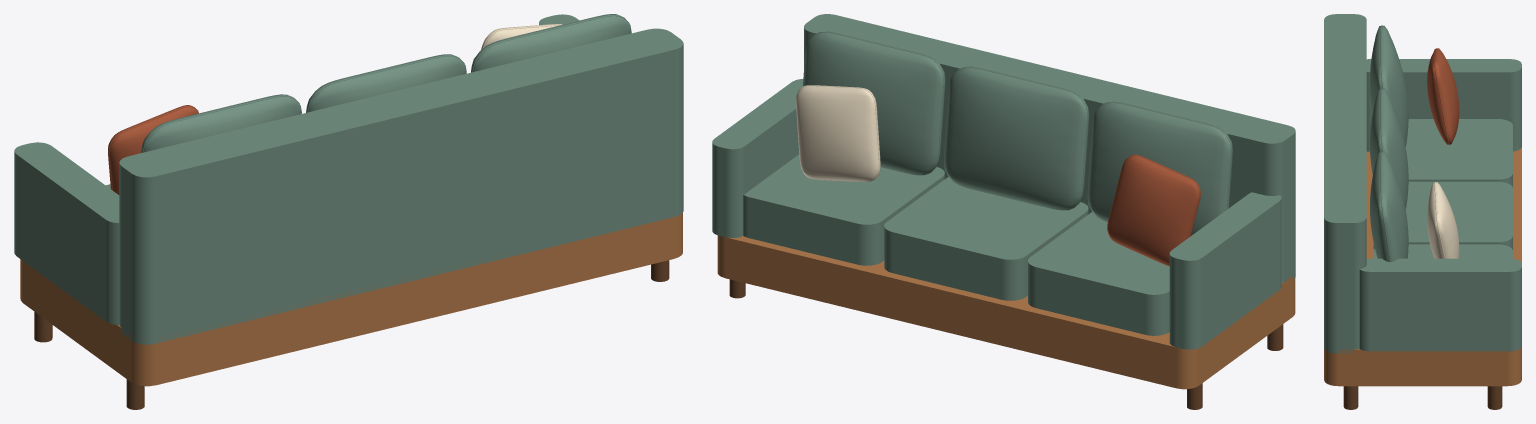
Rendered from living-sofa.gltf.
3 views of the same model, side by side, from view 1: azimuth 30°, elevation 25°; view 2: azimuth 150°, elevation 25°; view 3: azimuth 270°, elevation 25° (orthographic). The views are drawn at different scales.
Visible parts, largest first — view 1: Sofa upholstered back, Sofa oak plinth, Sofa upholstered arm, Sofa back cushion 1, Sofa back cushion 2, Sofa back cushion 0, Sofa rust accent pillow, Sofa linen accent pillow; view 2: Sofa oak plinth, Sofa upholstered arm (×2), Sofa back cushion 1, Sofa upholstered back, Sofa seat cushion 1, Sofa seat cushion 2, Sofa seat cushion 0, Sofa back cushion 2, Sofa back cushion 0, Sofa linen accent pillow, Sofa rust accent pillow; view 3: Sofa upholstered arm (×2), Sofa upholstered back, Sofa oak plinth, Sofa seat cushion 0, Sofa seat cushion 1, Sofa back cushion 2, Sofa back cushion 1, Sofa back cushion 0, Sofa rust accent pillow, Sofa linen accent pillow, Sofa seat cushion 2, Sofa turned timber leg (×2).
Part boxes in pixels (bbox=[...]): Sofa upholstered back: bbox=[119, 28, 683, 344]; Sofa oak plinth: bbox=[20, 213, 682, 386]; Sofa upholstered arm: bbox=[14, 142, 119, 324]; Sofa back cushion 1: bbox=[306, 54, 466, 112]; Sofa back cushion 2: bbox=[471, 14, 631, 72]; Sofa back cushion 0: bbox=[141, 94, 301, 152]; Sofa rust accent pillow: bbox=[108, 105, 198, 194]; Sofa linen accent pillow: bbox=[481, 24, 562, 49]; Sofa oak plinth: bbox=[717, 235, 1295, 389]; Sofa upholstered arm (×2): bbox=[712, 79, 1281, 349]; Sofa back cushion 1: bbox=[944, 66, 1089, 210]; Sofa upholstered back: bbox=[804, 14, 1295, 282]; Sofa seat cushion 1: bbox=[884, 177, 1088, 300]; Sofa seat cushion 2: bbox=[743, 154, 944, 265]; Sofa seat cushion 0: bbox=[1028, 212, 1169, 335]; Sofa back cushion 2: bbox=[803, 31, 945, 175]; Sofa back cushion 0: bbox=[1087, 101, 1232, 235]; Sofa linen accent pillow: bbox=[796, 85, 880, 181]; Sofa rust accent pillow: bbox=[1107, 154, 1200, 265]; Sofa upholstered arm (×2): bbox=[1359, 59, 1521, 351]; Sofa upholstered back: bbox=[1324, 14, 1366, 353]; Sofa oak plinth: bbox=[1324, 147, 1521, 386]; Sofa seat cushion 0: bbox=[1405, 119, 1512, 187]; Sofa seat cushion 1: bbox=[1373, 181, 1512, 249]; Sofa back cushion 2: bbox=[1370, 150, 1408, 261]; Sofa back cushion 1: bbox=[1370, 88, 1408, 209]; Sofa back cushion 0: bbox=[1370, 25, 1408, 146]; Sofa rust accent pillow: bbox=[1427, 48, 1459, 144]; Sofa linen accent pillow: bbox=[1427, 182, 1459, 258]; Sofa seat cushion 2: bbox=[1373, 244, 1512, 258]; Sofa turned timber leg (×2): bbox=[1343, 386, 1502, 409].
Bounding box in the file's own units: 2.24 × 0.9826 × 0.88.
